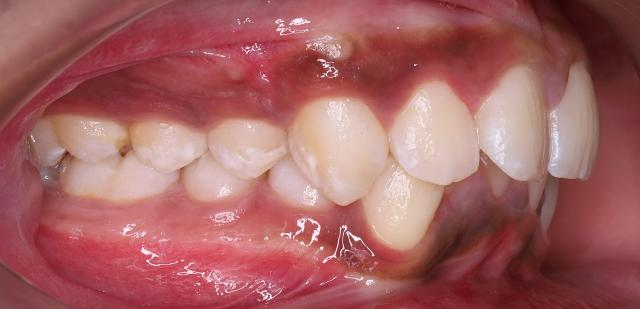canine class I: (269, 92, 439, 252)
molar class III 1/2: (28, 112, 182, 208)
